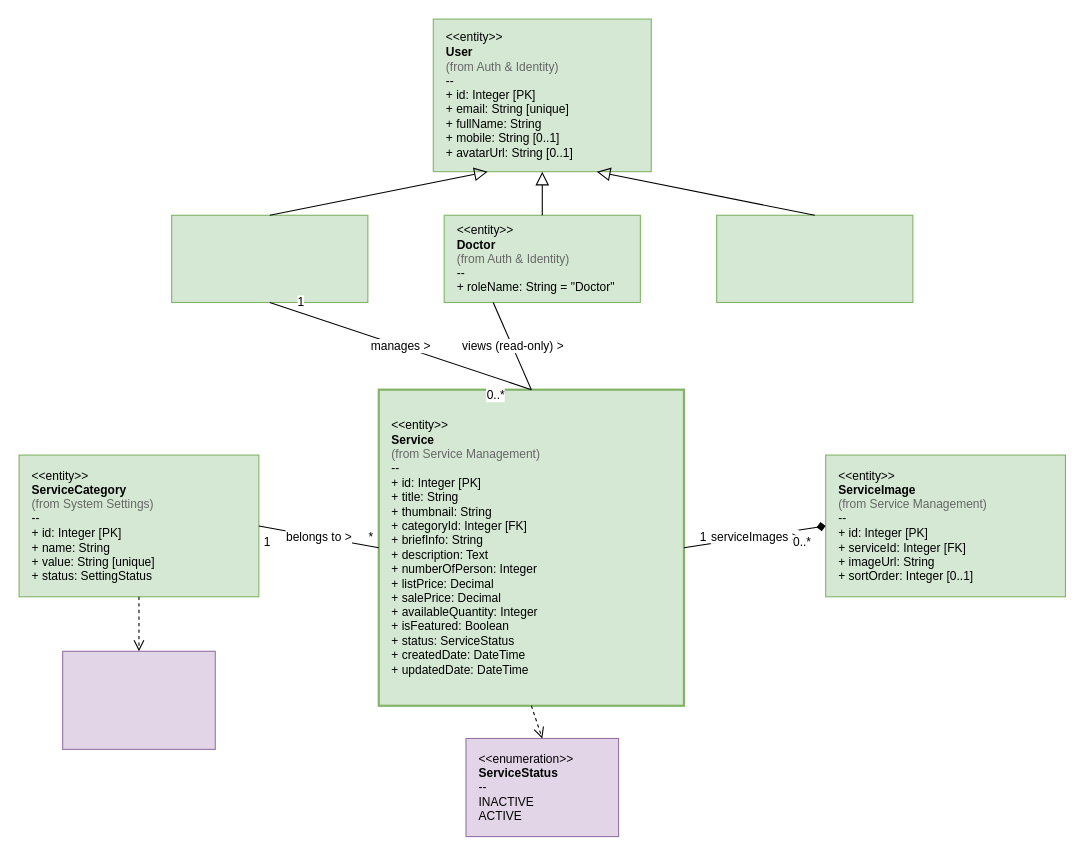
Some shapes in this 1085 by 856 pixel diagram are drawn without their labels. Here are the shapes that lost their labels. From the top down, the box of each, then its label:
(171, 214, 368, 302): <<entity>> Manager (from Auth & Identity) -- + roleName: String = "Manager"
(716, 214, 913, 302): <<entity>> Nurse (from Auth & Identity) -- + roleName: String = "Nurse"
(62, 650, 215, 749): <<enumeration>> SettingStatus -- INACTIVE ACTIVE
